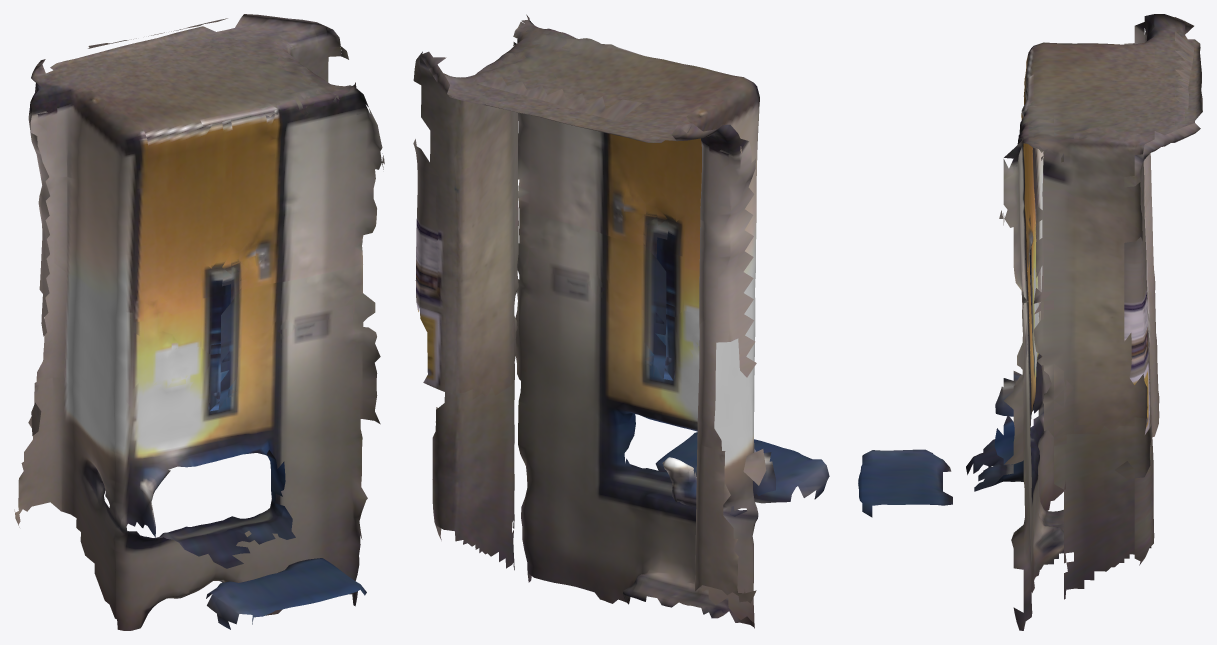
File: Hall2L.obj
3 renders of one model, left to right at view 1: azimuth 30°, elevation 25°; view 2: azimuth 150°, elevation 25°; view 3: azimuth 270°, elevation 25°, orthographic. The views are drawn at different scales.
Size of the model in its own units: 2.28 by 3.67 by 2.22.
1 material, 1 textured.
